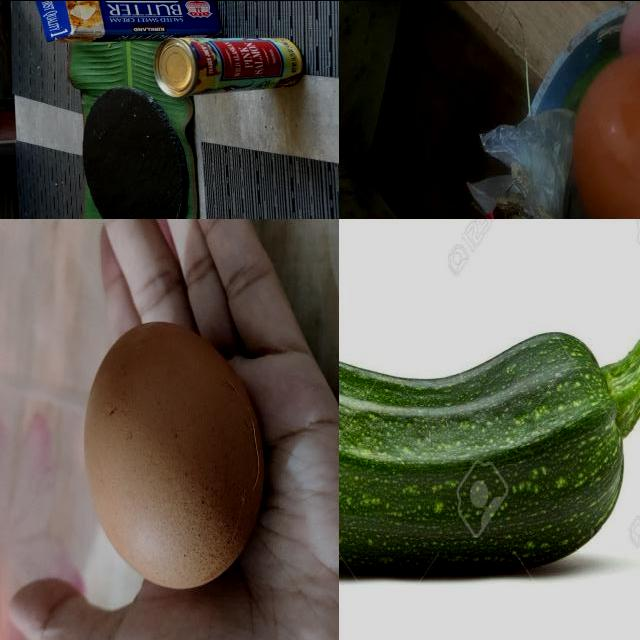egg: (83, 312, 268, 598), (568, 48, 640, 219)
zucchini: (340, 219, 640, 580)
